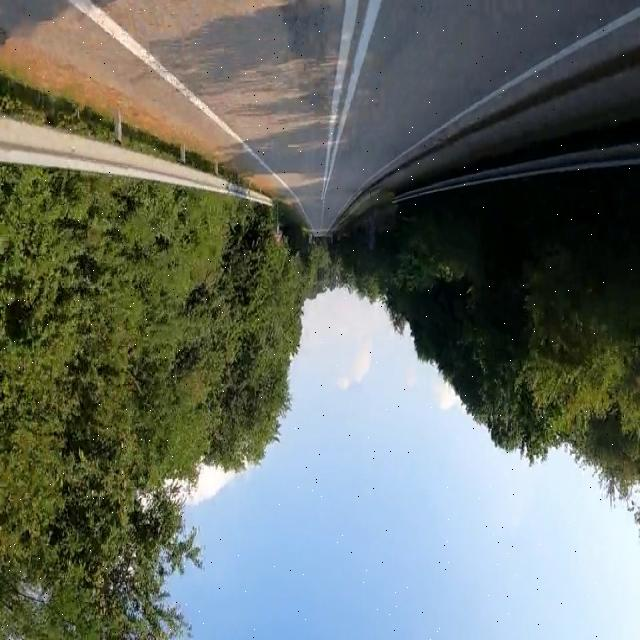lane: (70, 1, 311, 226), (384, 8, 640, 169), (323, 1, 381, 213), (323, 0, 359, 198)
road: (0, 0, 640, 233)
